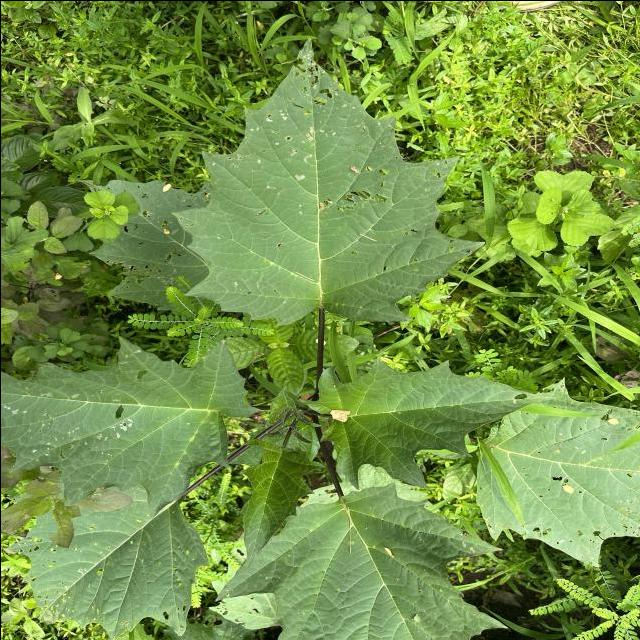Datura metal linn: (168, 34, 488, 328), (0, 334, 261, 521), (212, 479, 507, 640), (296, 354, 556, 492), (0, 483, 212, 640), (472, 376, 640, 569), (234, 436, 327, 574)
